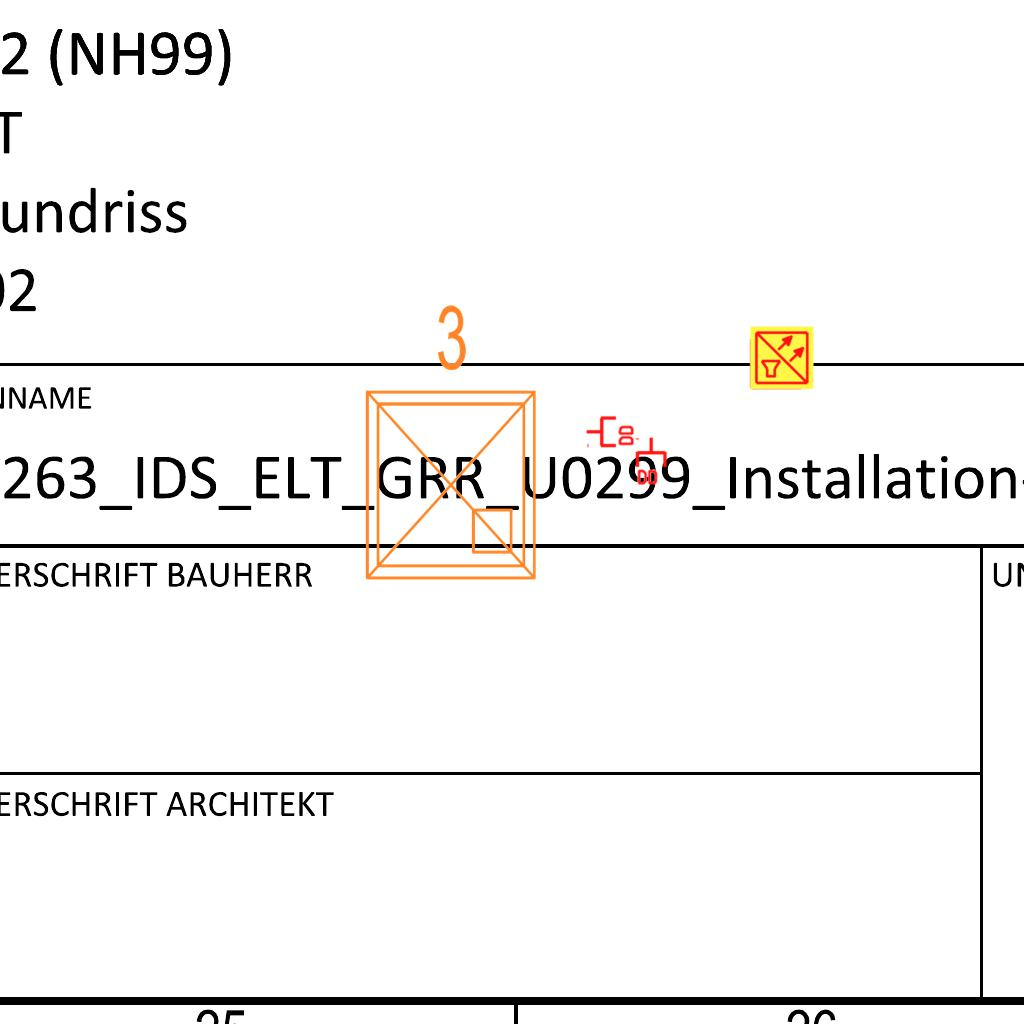Datenanschluss_zweifach: (585, 414, 636, 448), (635, 436, 669, 487)
Einbaudownlights_LED_Konferenzraeume: (343, 294, 551, 594)
OKW_Multisensormelder_(Kombination_optischer_Rauch-Kahlenmonoxid_Waerme-Melder): (749, 325, 815, 391)
